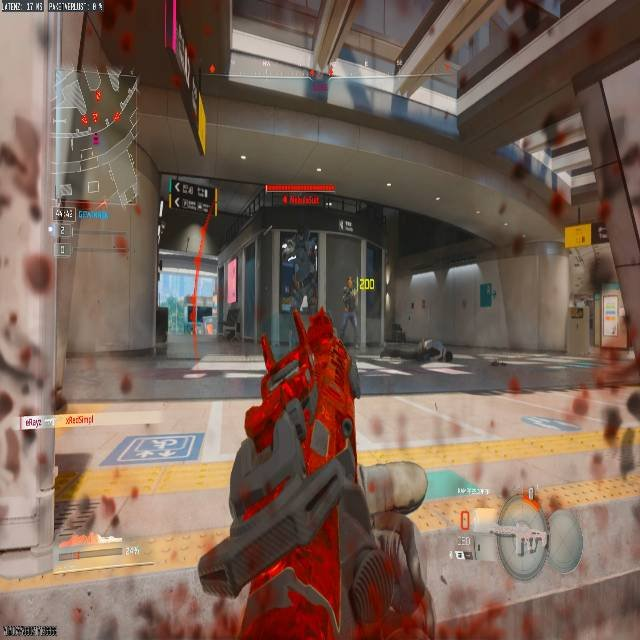player: (285, 257, 309, 310)
